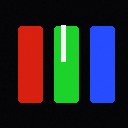4 line_v: (61, 25, 65, 61)
